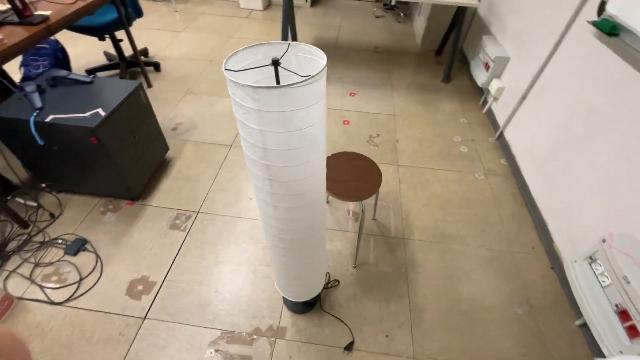Lamp: (219, 39, 333, 315)
Stool: (322, 147, 384, 273)
